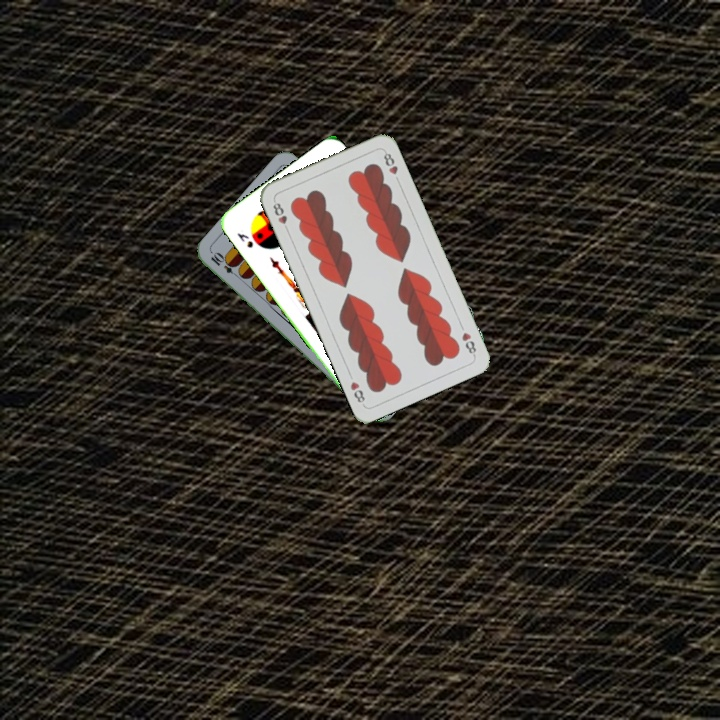E10: (207, 249, 243, 280)
H8: (269, 196, 292, 235), (458, 328, 479, 359)
SK: (233, 229, 256, 250)
